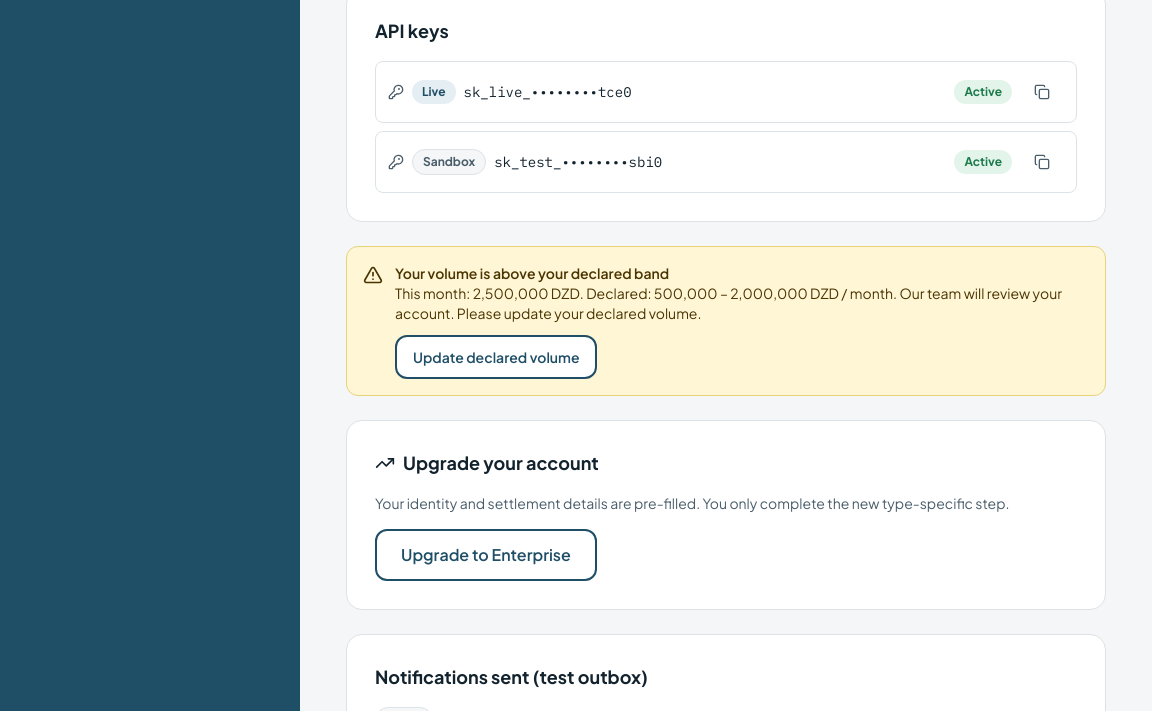
it: volume above declared band › banner asks the partner to update the declared volume; updating clears it
(page scrolled)
Click the button "Update declared volume".
click(496, 356)  # box 395,334 -> 598,378
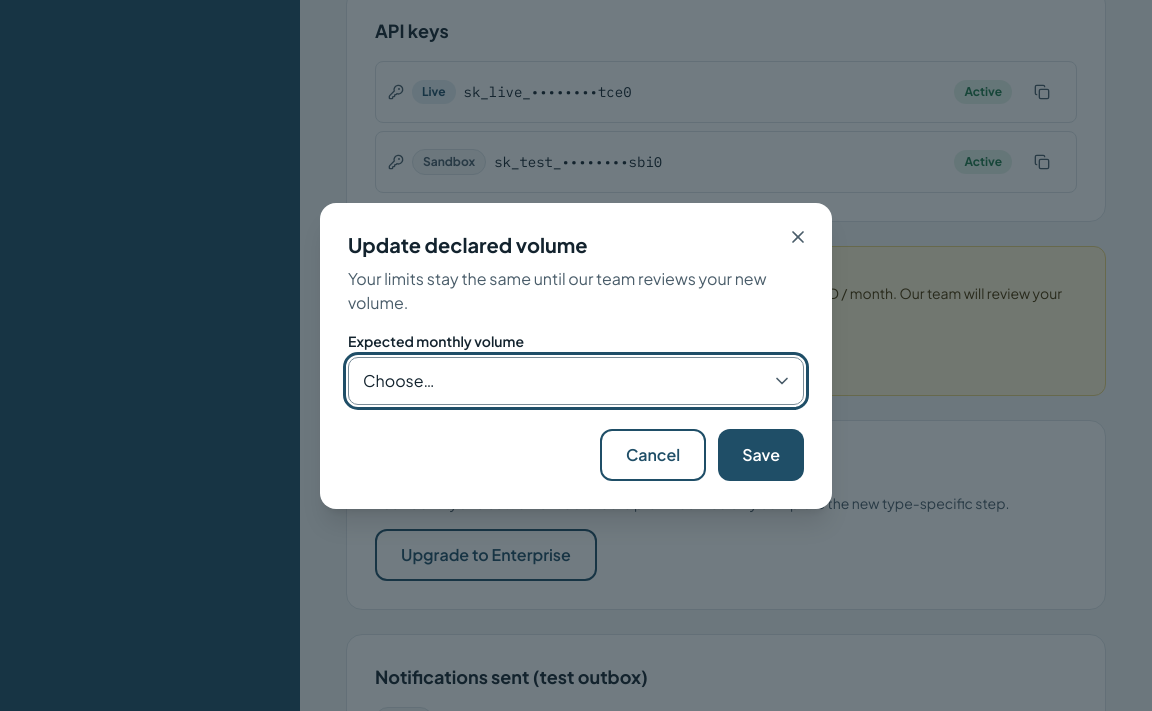
Check: the dialog shows "Your limits stay the same", box 348,268 -> 766,313
Click the button "Save".
click(761, 455)  # box 718,429 -> 804,481
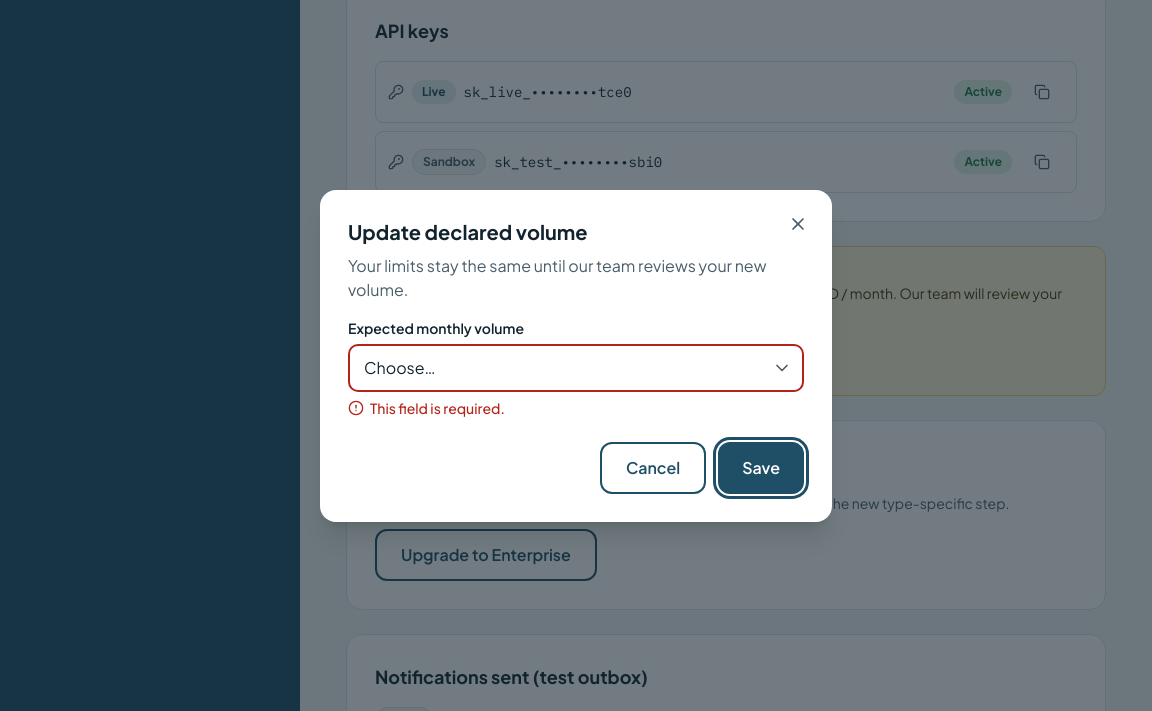
Check: the text "This field is required." is shown, box 370,398 -> 505,418
Select "2,000,000 – 10,000,000 DZD / month" in the dropdown labelled "Expected monthly volume" at (576, 368), box 348,344 -> 804,392
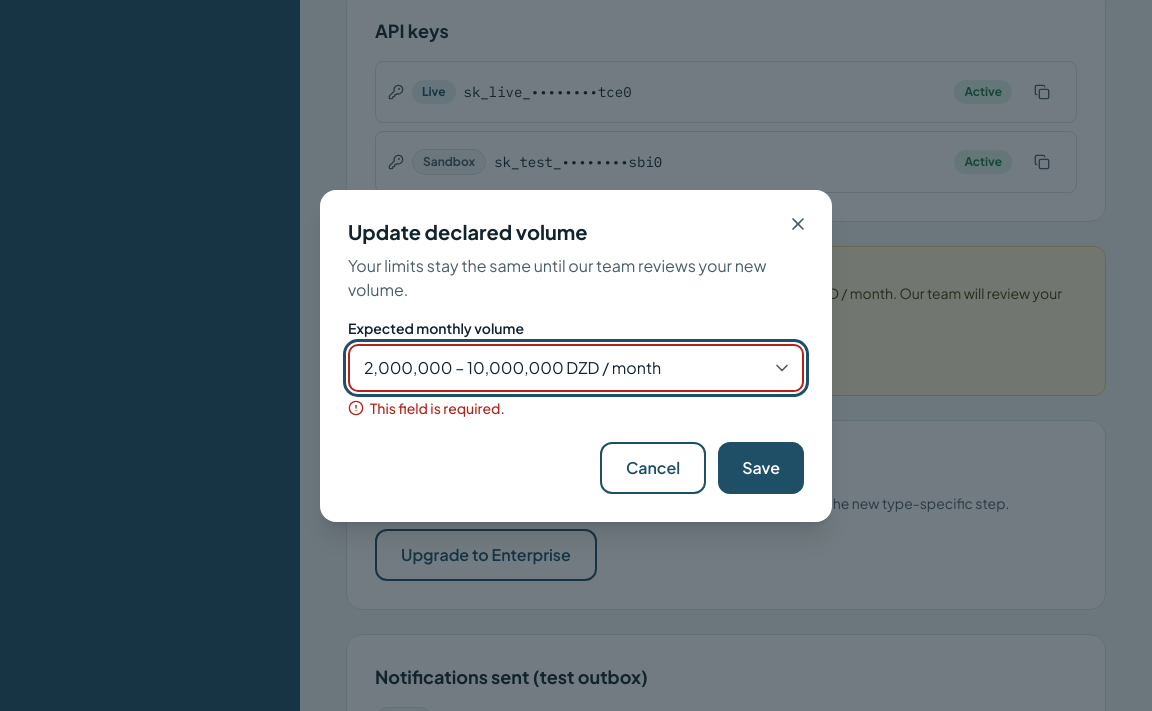
Click the button "Save".
click(761, 468)  # box 718,442 -> 804,494
(page scrolled)
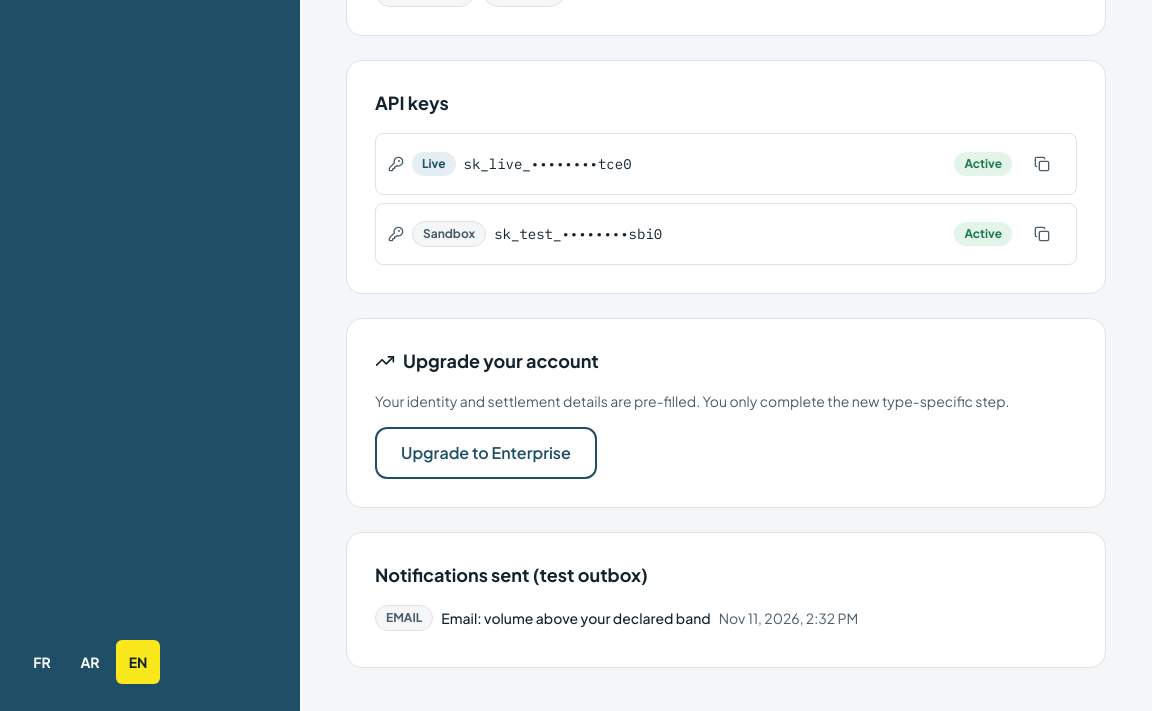
Check: the element with test id "volume-flag" is gone
